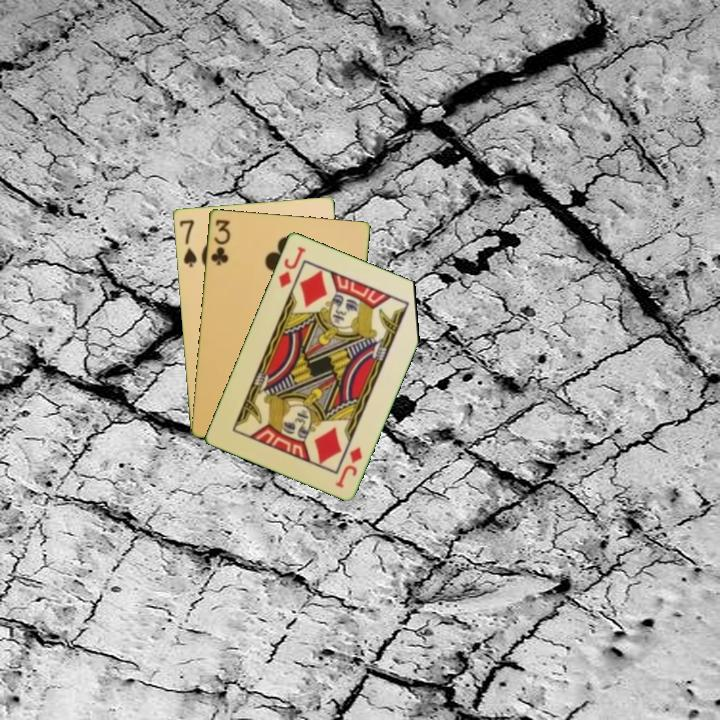3c: (207, 215, 233, 268)
7s: (176, 216, 200, 270)
Jd: (275, 242, 309, 290), (332, 443, 365, 490)
